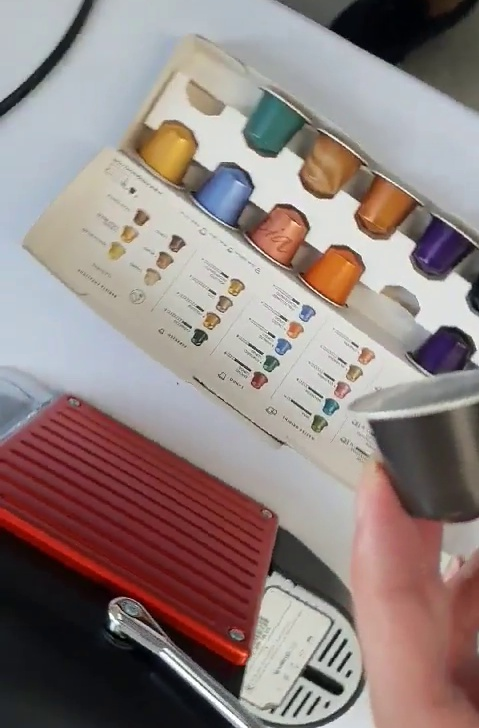capsule_4: (344, 367, 479, 528)
